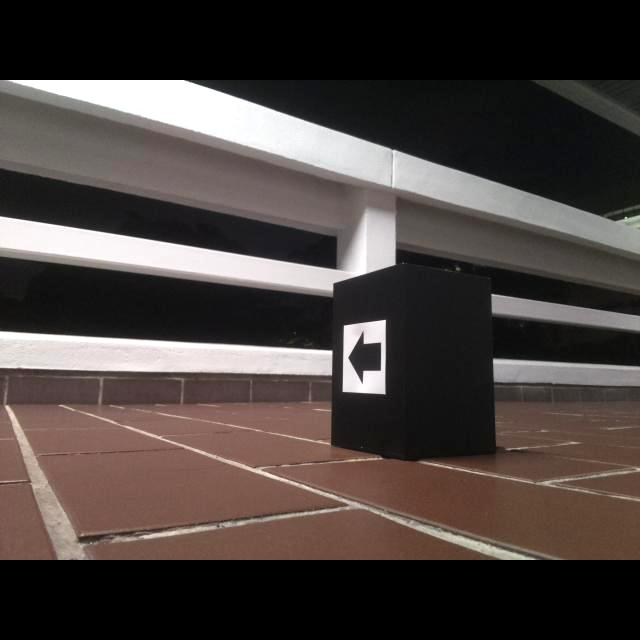LEFT: (347, 329, 381, 385)
